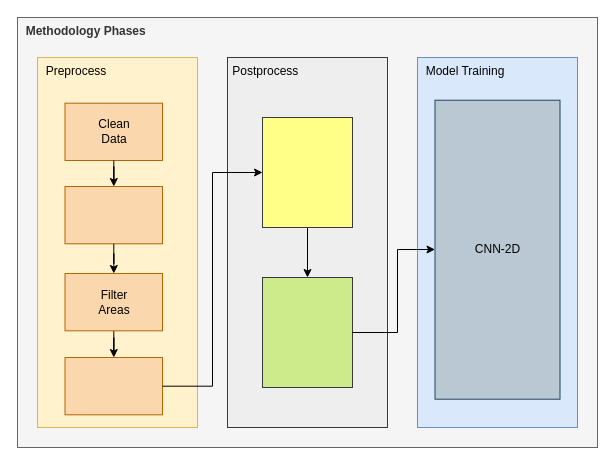
Image size: 615x465. Some labels were removed from this diagram. Each missing label, with the centre of its shape:
Discretize Data: (113,215)
Genetic Algorithm: (307,172)
Matrix Construction: (307,332)
Resampling: (113,385)
